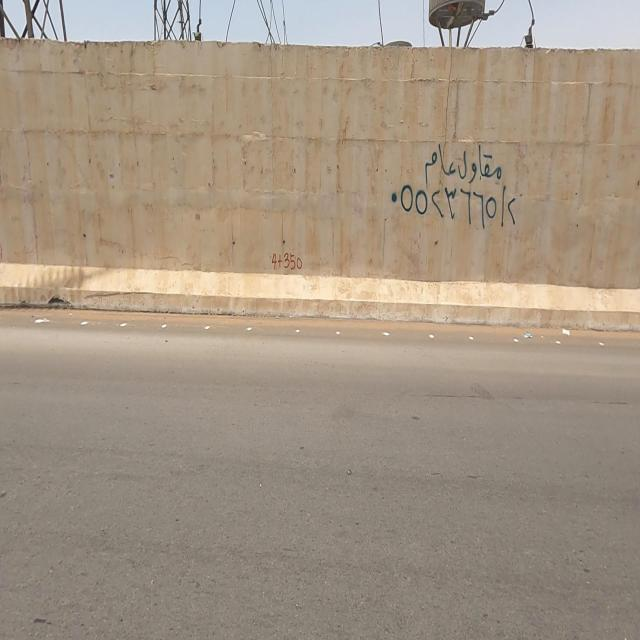Graffiti: (392, 142, 518, 232), (272, 250, 304, 273)
